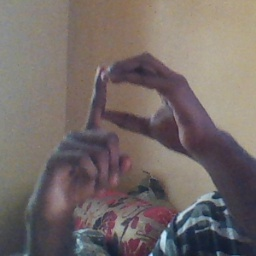P: (59, 51, 212, 194)
